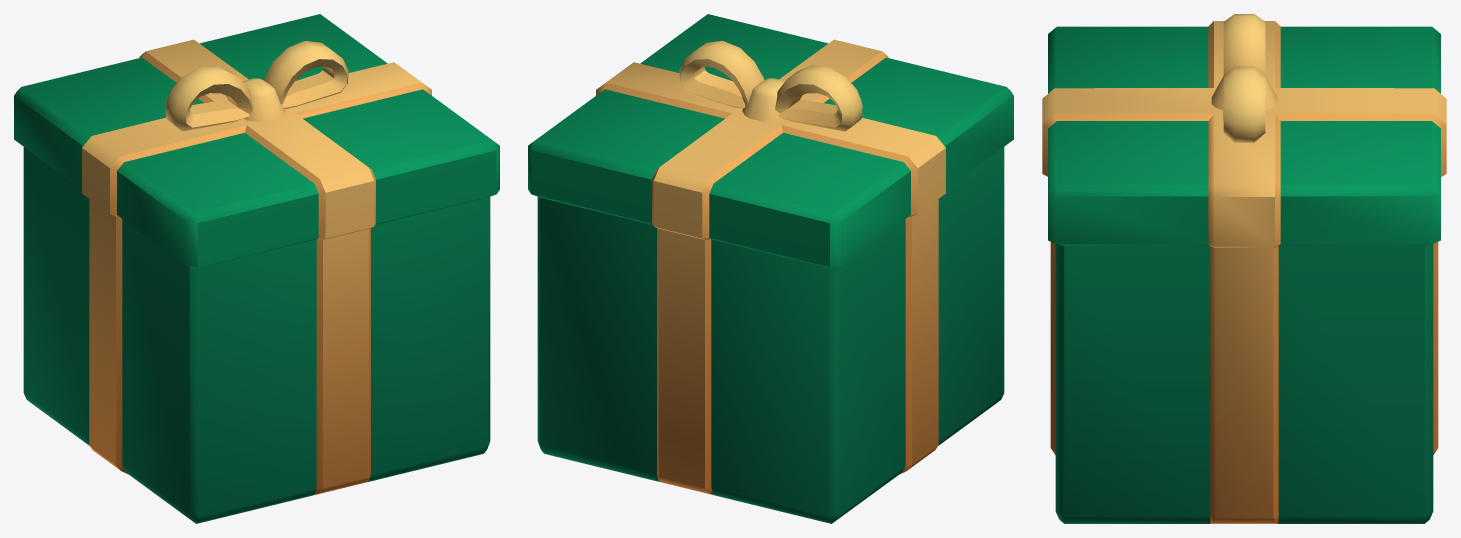
The model's file is present_D_green.fbx.
3 views of the same model, side by side, from view 1: azimuth 30°, elevation 25°; view 2: azimuth 150°, elevation 25°; view 3: azimuth 270°, elevation 25° (orthographic). The views are drawn at different scales.
Visible parts, largest first — view 1: present_D_green; view 2: present_D_green; view 3: present_D_green.
Boxes of the visible parts, bbox=[...] form: present_D_green: bbox=[14, 14, 499, 523]; present_D_green: bbox=[528, 14, 1013, 523]; present_D_green: bbox=[1042, 14, 1446, 523].
Bounding box in the file's own units: 96.38 × 106 × 96.38.
